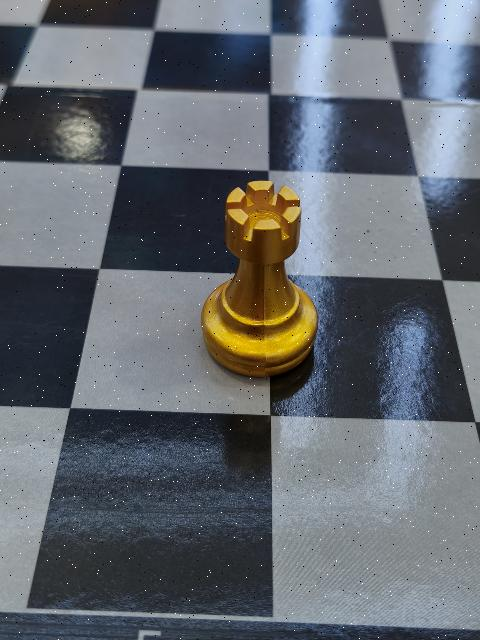black_rook: (198, 178, 320, 375)
